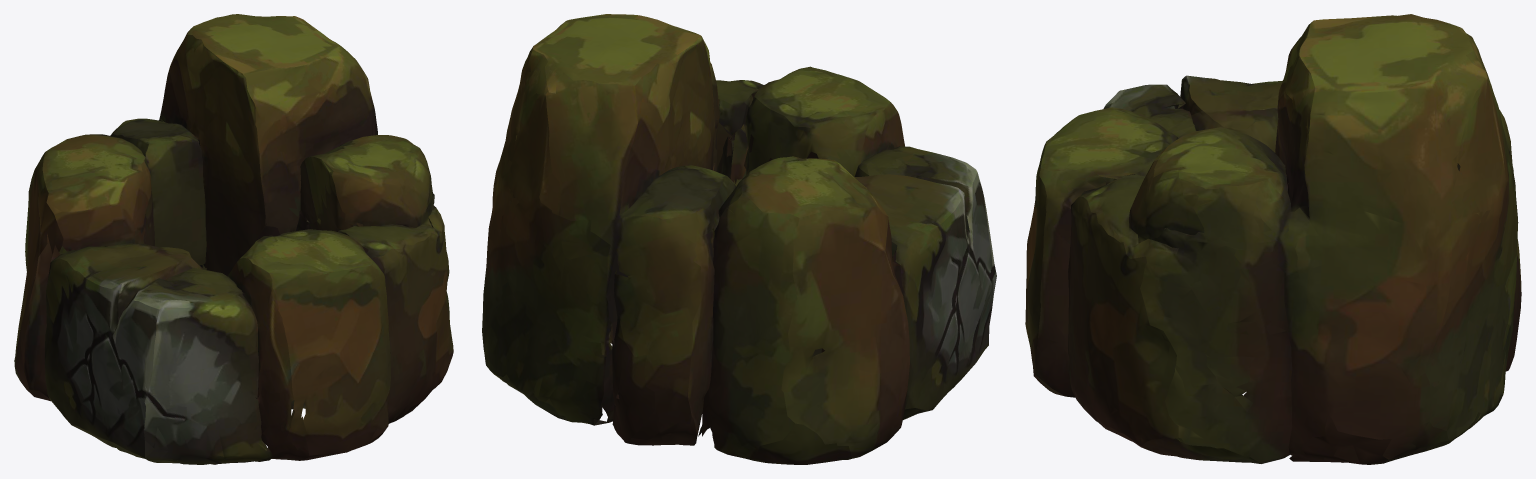
Rendered from golem_pillar.glb.
3 views of the same model, side by side, from view 1: azimuth 30°, elevation 25°; view 2: azimuth 150°, elevation 25°; view 3: azimuth 270°, elevation 25° (orthographic). The views are drawn at different scales.
Parts seen in each view (by area): view 1: golem_pillar; view 2: golem_pillar; view 3: golem_pillar.
Boxes of the visible parts, box(x1,y1,x2,y2) form: golem_pillar: box(14, 14, 453, 464); golem_pillar: box(482, 14, 996, 464); golem_pillar: box(1025, 14, 1521, 464).
Size of the model in its own units: 2.5 by 2.01 by 2.47.
1 material, 1 textured.
